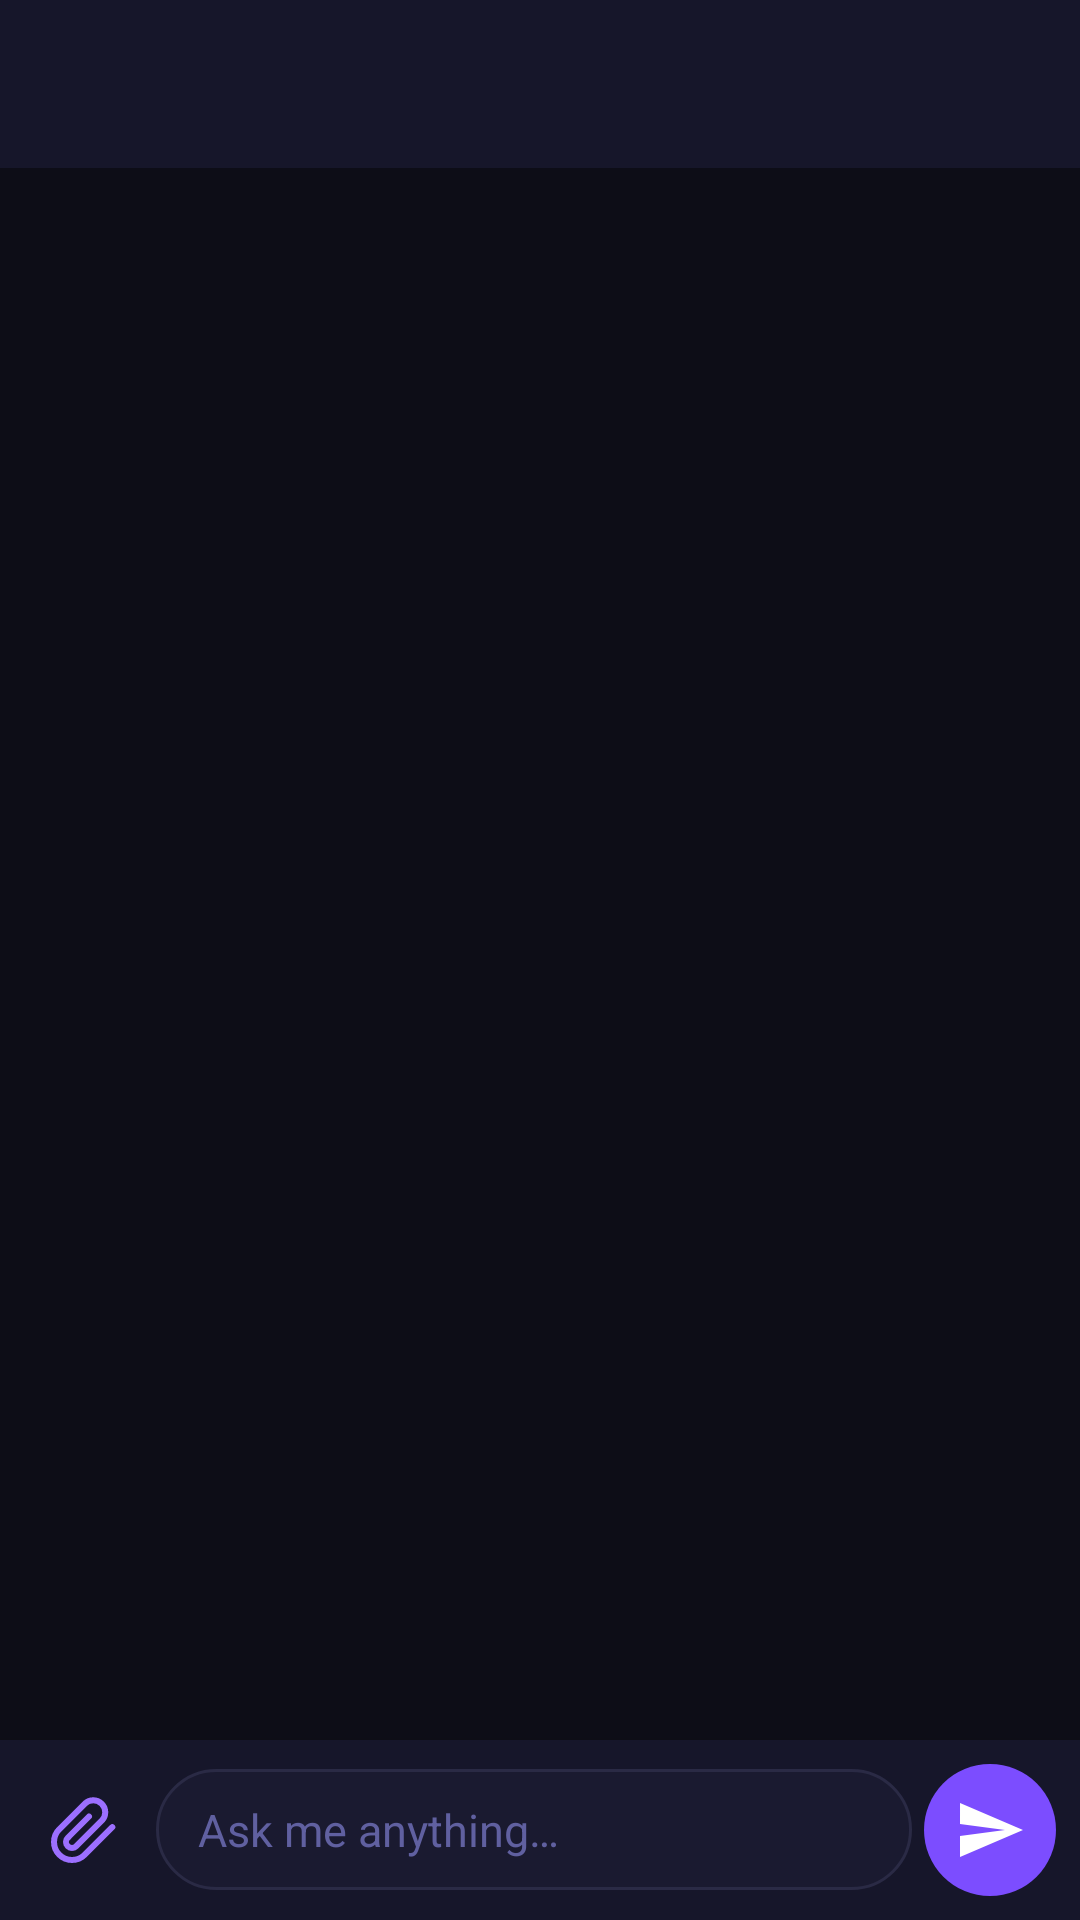

Where icons sit on this 1080w x 1920h app screen, as (x1,y1,x2,y2):
Attach image: (51,1797,116,1863)
Send: (924,1764,1056,1896)
